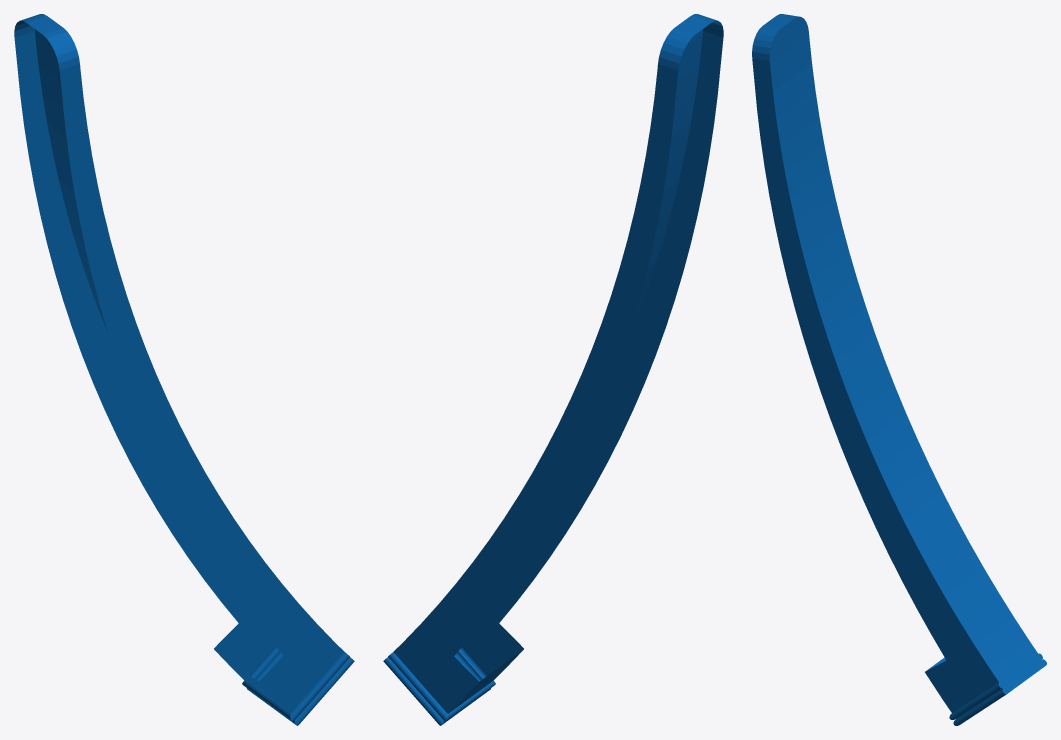
Rendered from 6_leg__material_3_24.obj.
The picture shows the model from 3 angles, left to right: view 1: azimuth 30°, elevation 25°; view 2: azimuth 150°, elevation 25°; view 3: azimuth 330°, elevation 25°; orthographic projection. The views are drawn at different scales.
Parts seen in each view (by area): view 1: 6_leg__material_3_24; view 2: 6_leg__material_3_24; view 3: 6_leg__material_3_24.
Boxes of the visible parts, x1,y1,x2,y2 form: 6_leg__material_3_24: [14, 14, 354, 725]; 6_leg__material_3_24: [383, 14, 723, 725]; 6_leg__material_3_24: [752, 14, 1046, 725].
Size of the model in its own units: 0.0417 by 0.0994 by 0.012.
